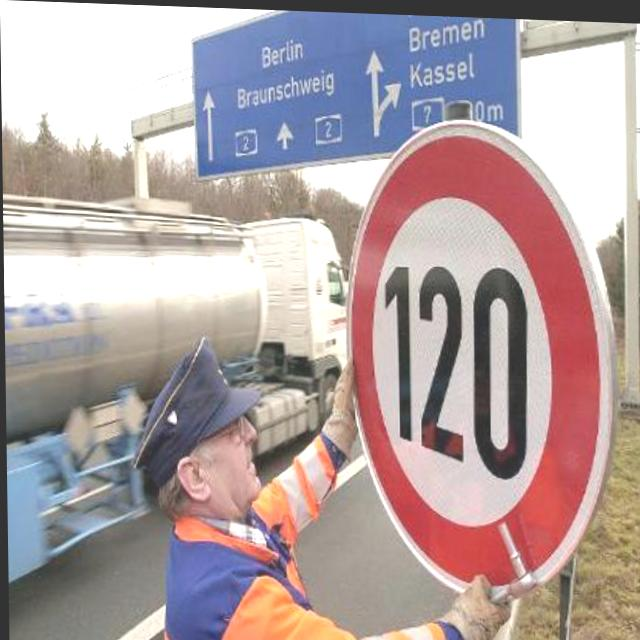limit120: (321, 95, 629, 608)
